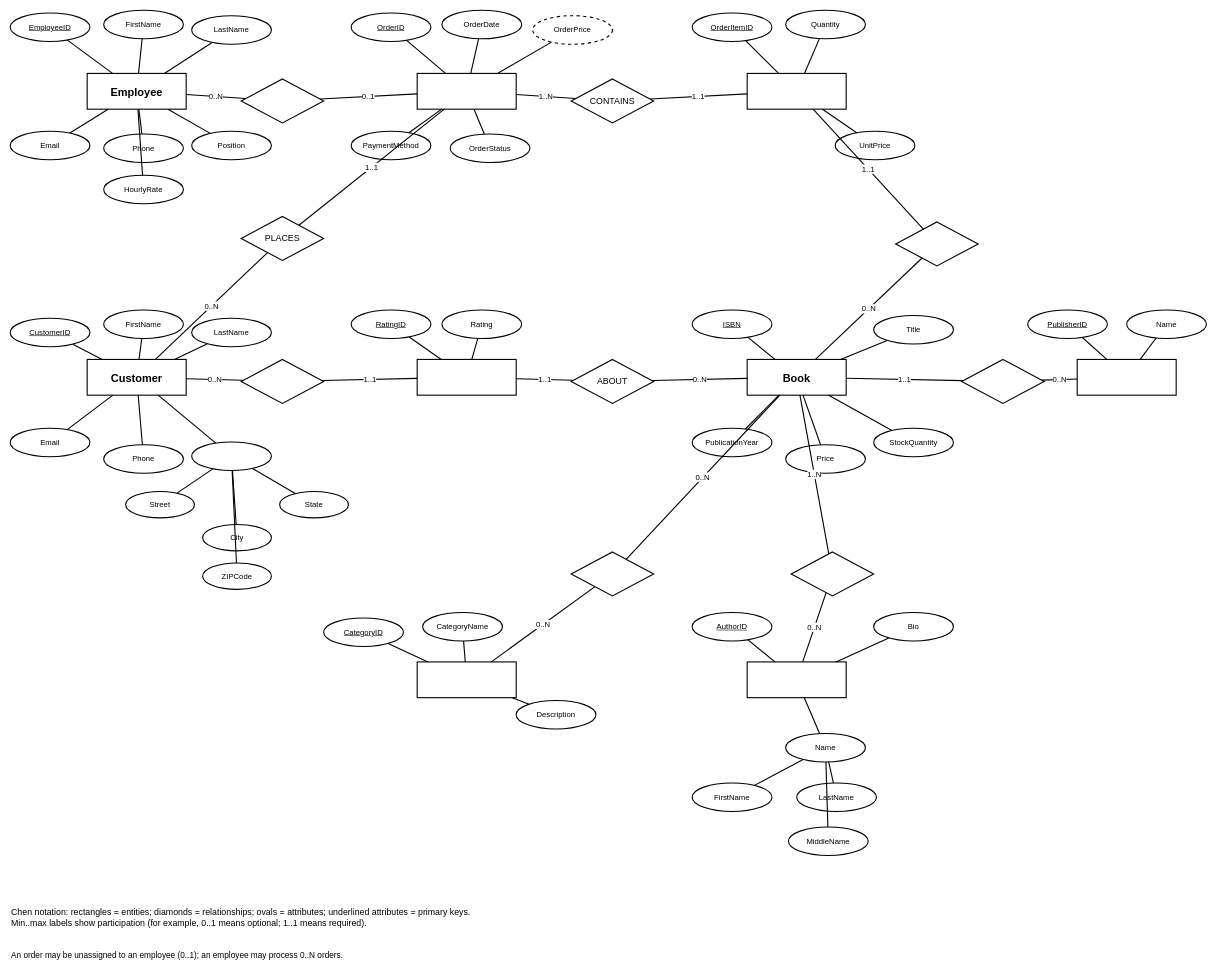
Image size: 1216x976. Some labels were removed from this diagram. Here are the shapes that lost their labels. From the top down, the centre of each, then its label:
point 282,100: PROCESSES
point 466,91: Orders
point 796,91: Order_Item
point 936,243: REFERS_TO
point 282,381: GIVES
point 466,377: BookRating
point 1002,381: PUBLISHED_BY
point 1126,377: Publisher
point 231,456: Address
point 612,573: IS_IN
point 832,573: WRITES
point 466,679: Category
point 796,679: Author
